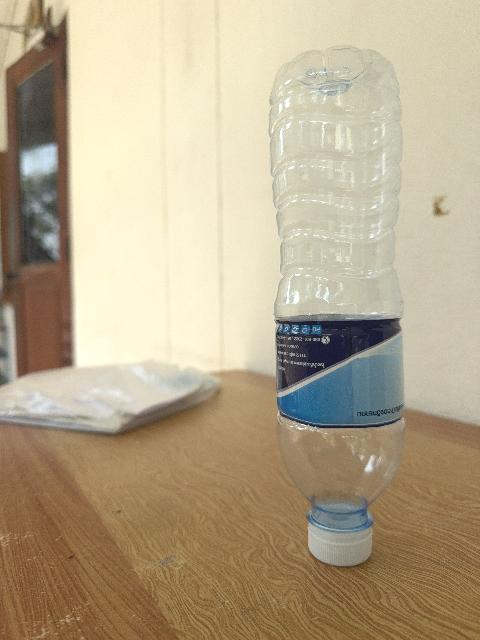bottle: (270, 47, 404, 565)
